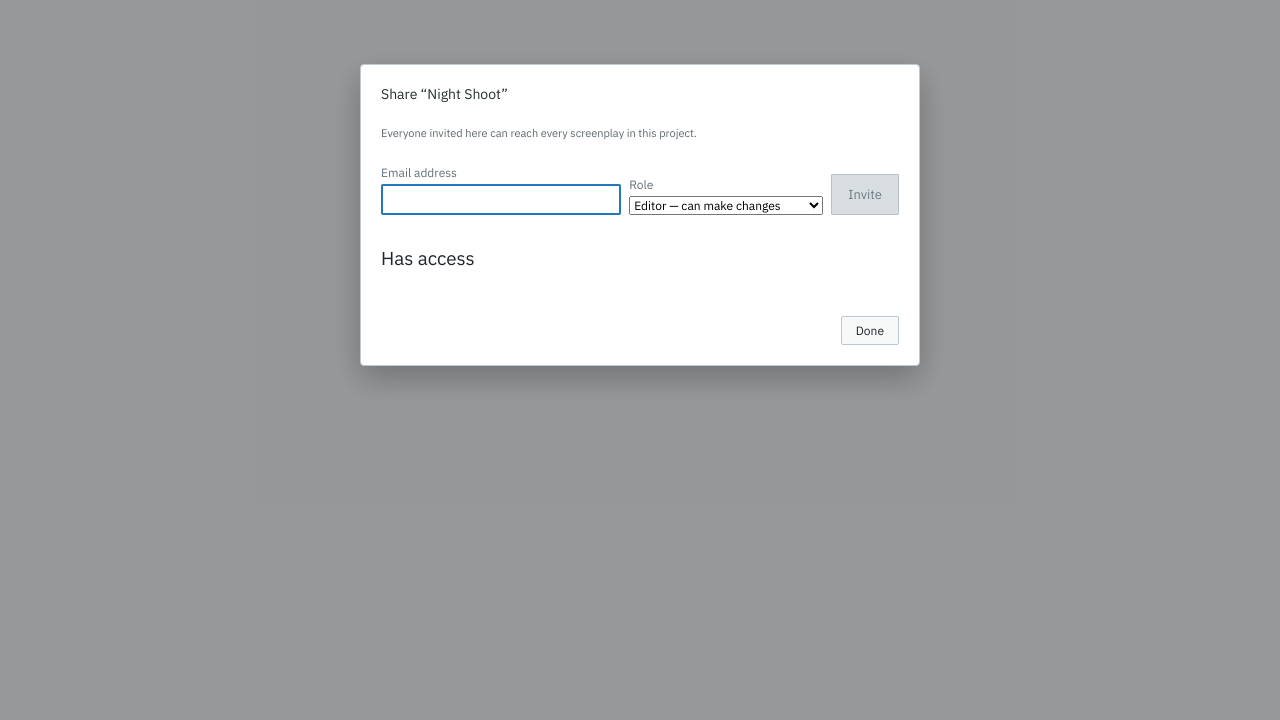
Test: the sharing dialog › shows the server’s own sentence when the address has no account, and does not clear the field
In the field named "Invite by email address": (501,199) [381, 184, 621, 215], type "nobody@example.test"
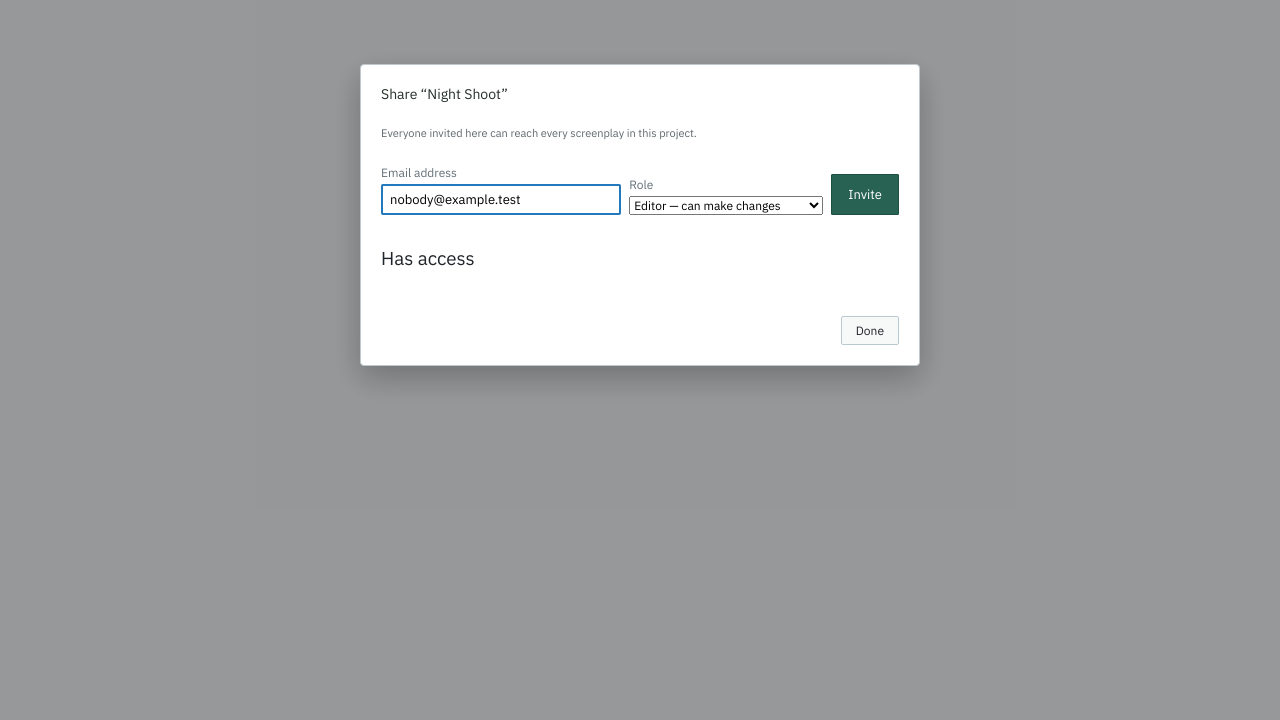
Click the button "Invite": (865,194) [831, 174, 899, 215]
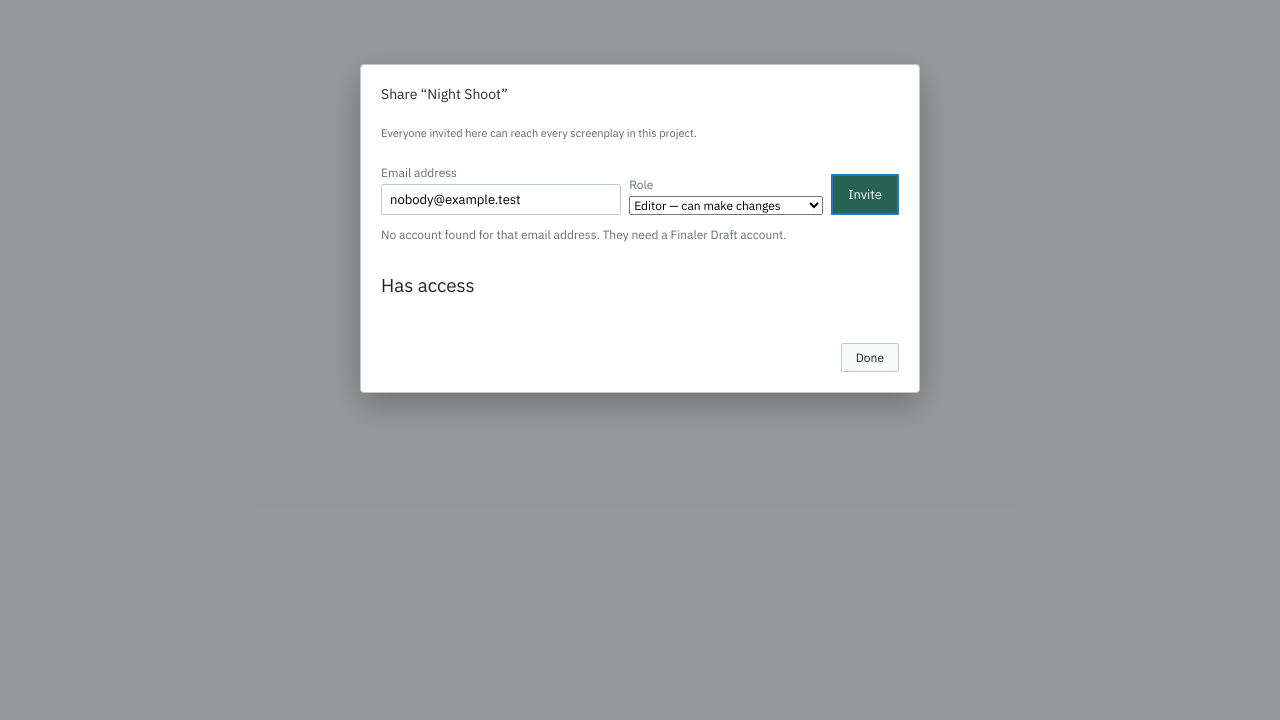
Expected: the message shows "No account found for that email address", [381, 227, 786, 242]
